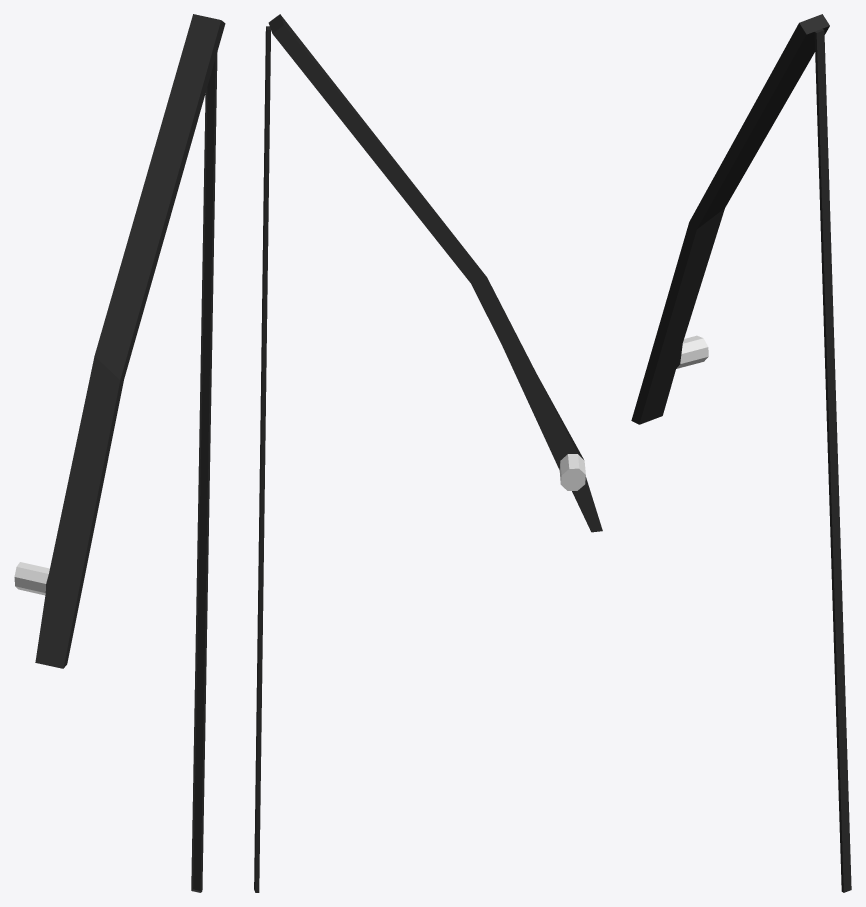
The model's file is FishingPole.gltf.
The picture shows the model from 3 angles, left to right: view 1: azimuth 30°, elevation 25°; view 2: azimuth 150°, elevation 25°; view 3: azimuth 270°, elevation 25°; orthographic projection. The views are drawn at different scales.
Visible parts, largest first — view 1: fishing rod; view 2: fishing rod; view 3: fishing rod.
Part boxes in pixels (x1=…): fishing rod: x1=14, y1=14, x2=225, y2=892; fishing rod: x1=254, y1=14, x2=602, y2=892; fishing rod: x1=631, y1=14, x2=851, y2=892.
Bounding box in the file's own units: 0.3519 × 1.11 × 0.255.
1 material, 1 textured.
